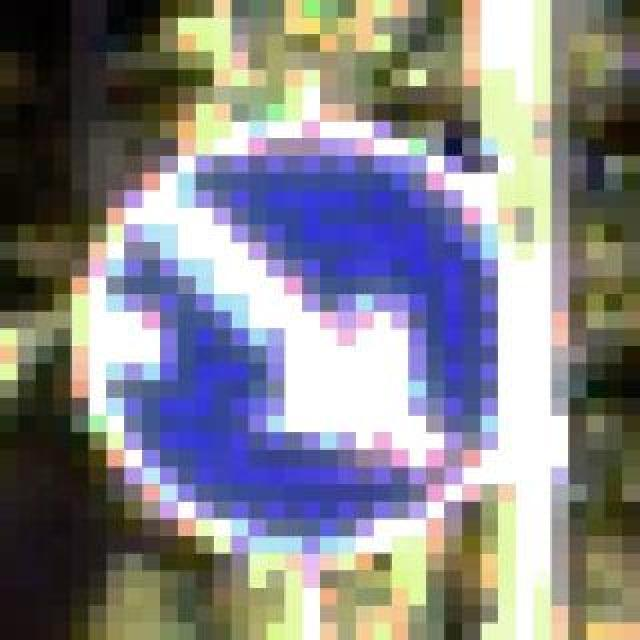keep right: (36, 104, 498, 552)
